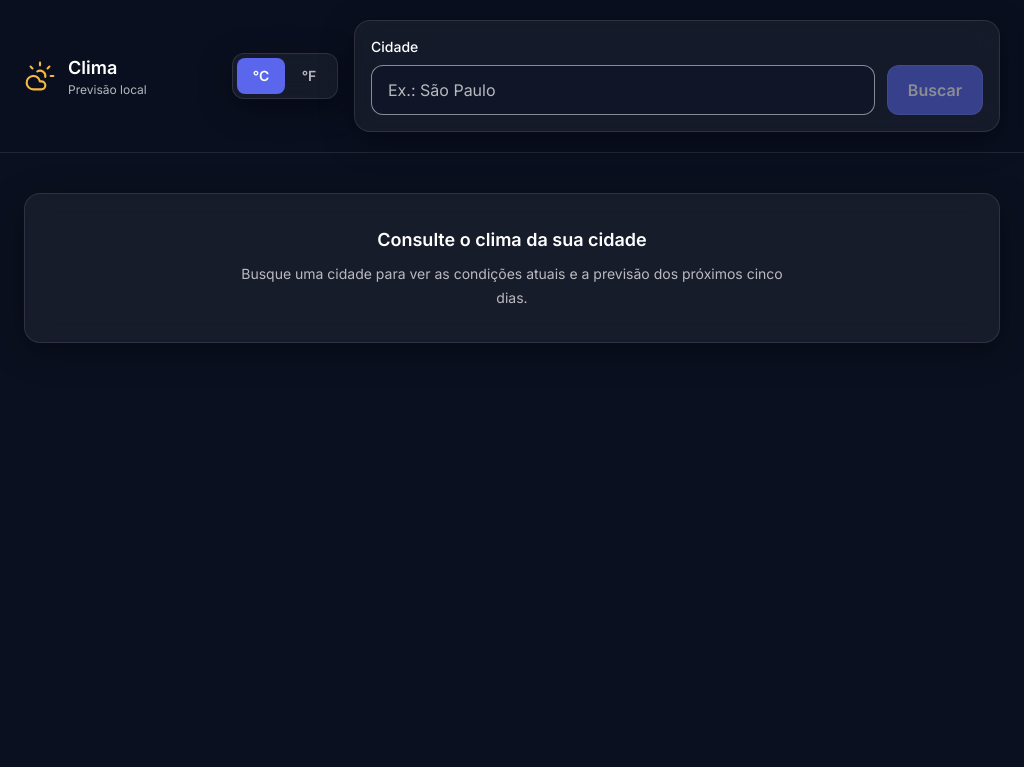
Scenario: App › respeita a unidade alterada durante loading sem consultar novamente
Type "São Paulo" into the search field labelled "Cidade" at x=623, y=90, box left=371, top=65, right=875, bottom=115
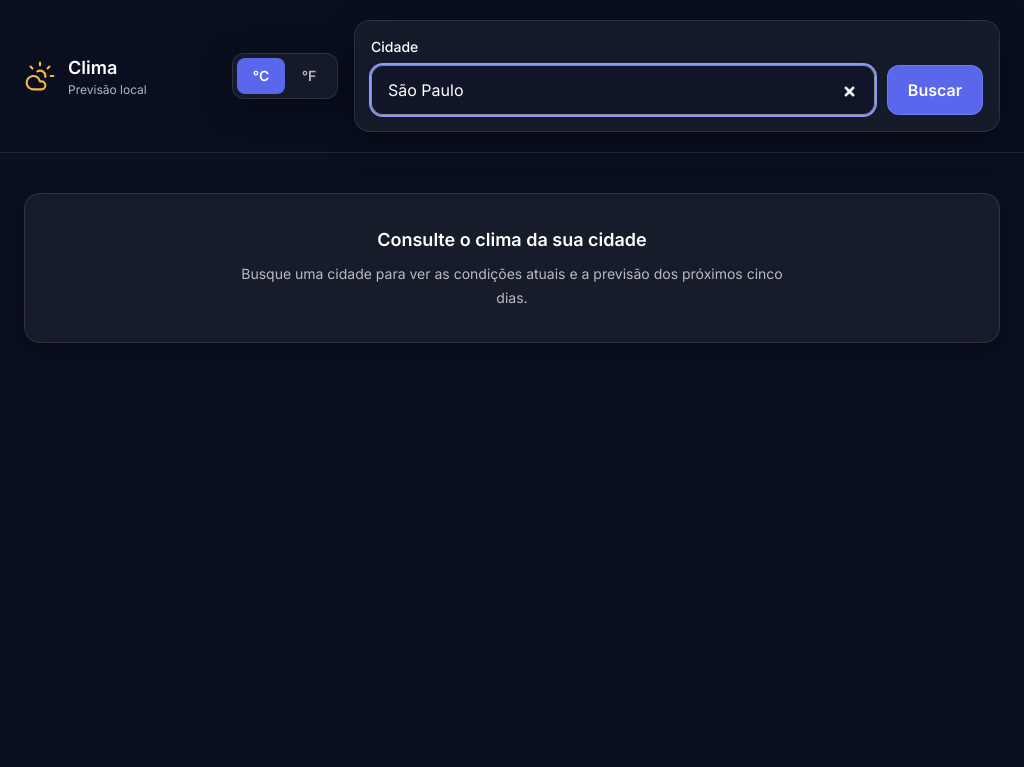
Click the button "Buscar" at x=935, y=90, box left=887, top=65, right=983, bottom=115
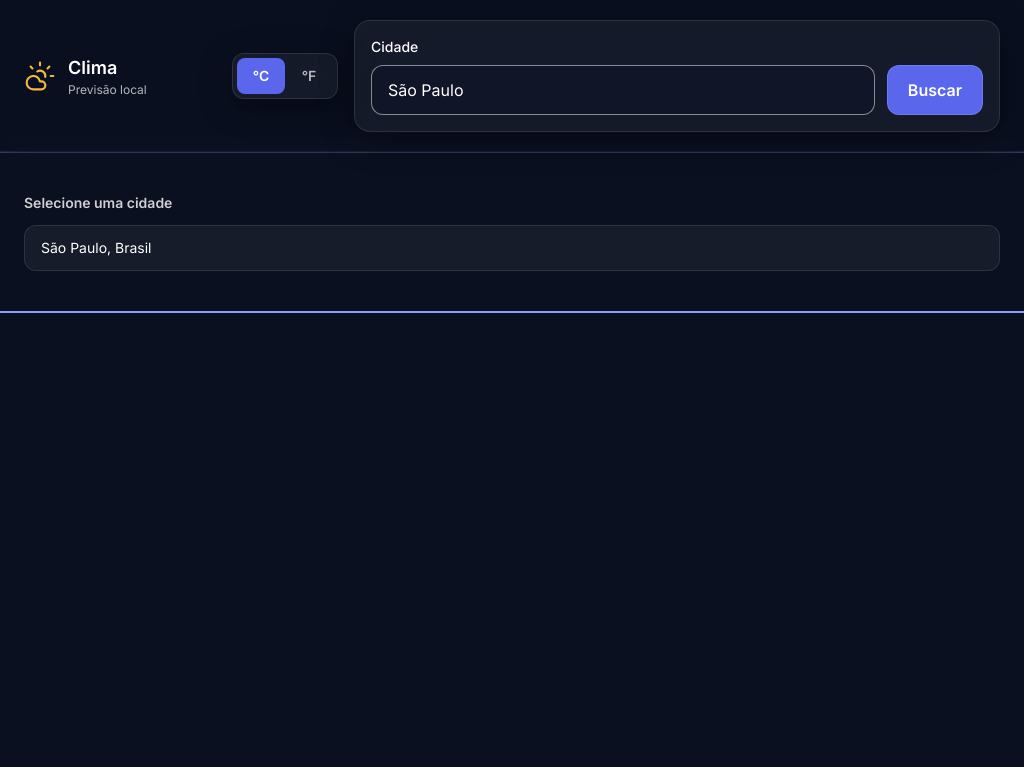
Click the button "São Paulo, Brasil" at x=96, y=248, box left=24, top=225, right=1000, bottom=271
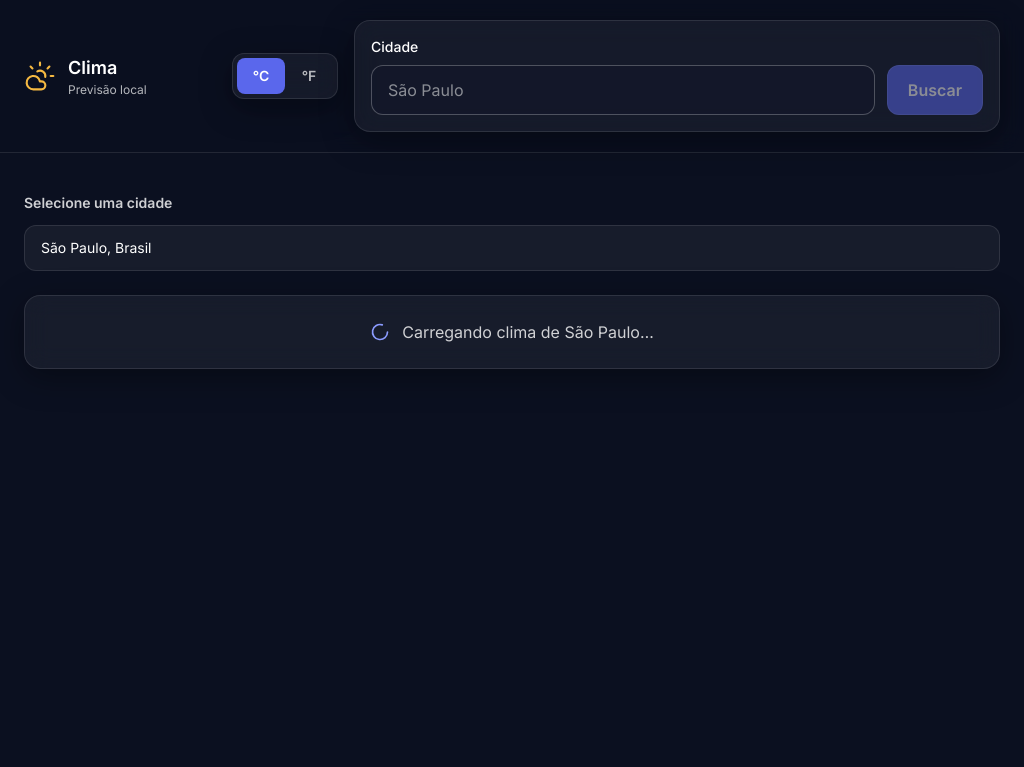
Result: the element named "Resultados da consulta" has attribute aria-busy="true" at left=0, top=153, right=1023, bottom=409
Click the button named "Fahrenheit" at x=309, y=76, box left=285, top=58, right=333, bottom=94
(page scrolled)
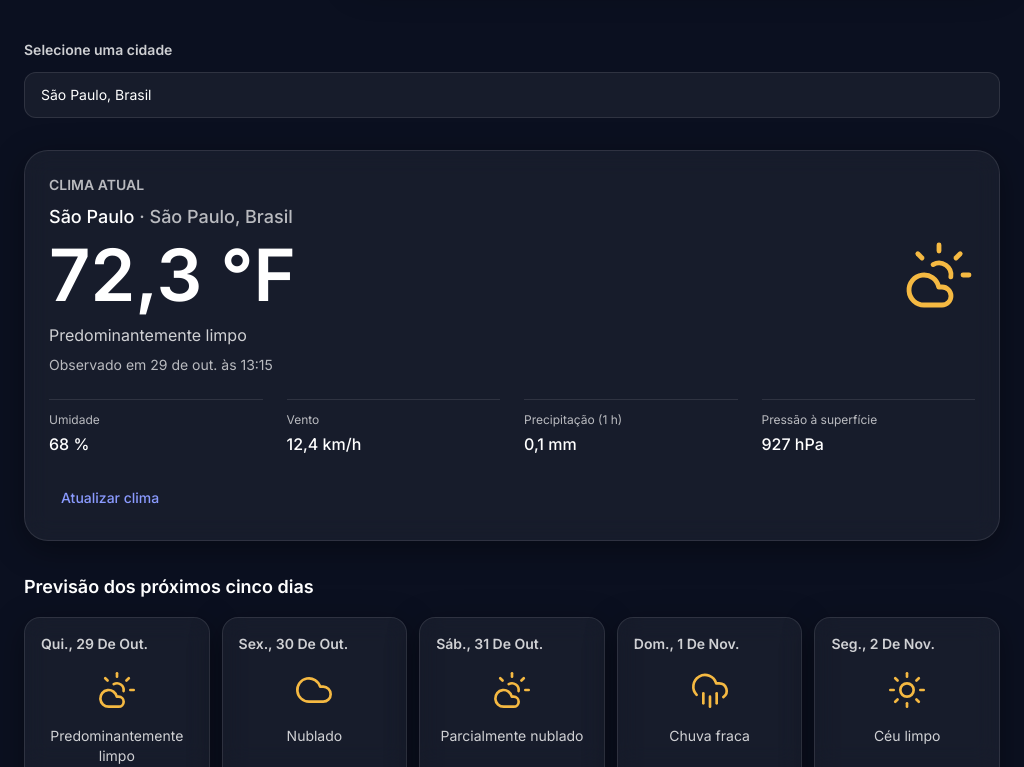
Result: the text "72,3 °F" is shown at left=49, top=239, right=296, bottom=311
